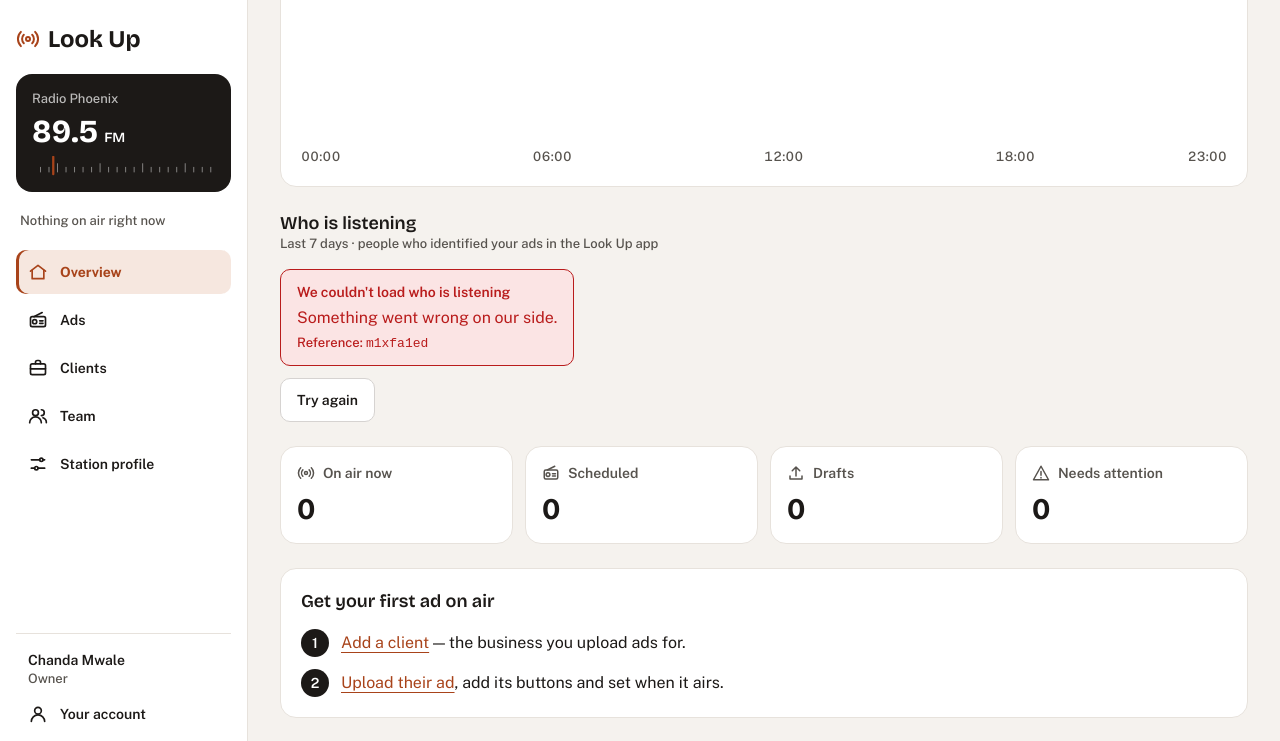
Scenario: Who is listening (LA-STATS-07) › explains a failure in plain words with its reference, and tries again on request
(page scrolled)
Expected: the message shows "We couldn't load who is listening", [297,284,510,300]
Expected: the message shows "Reference: m1xfa1ed", [280,269,574,366]
Click the button "Try again".
click(328, 400)  # box [280,378,375,422]
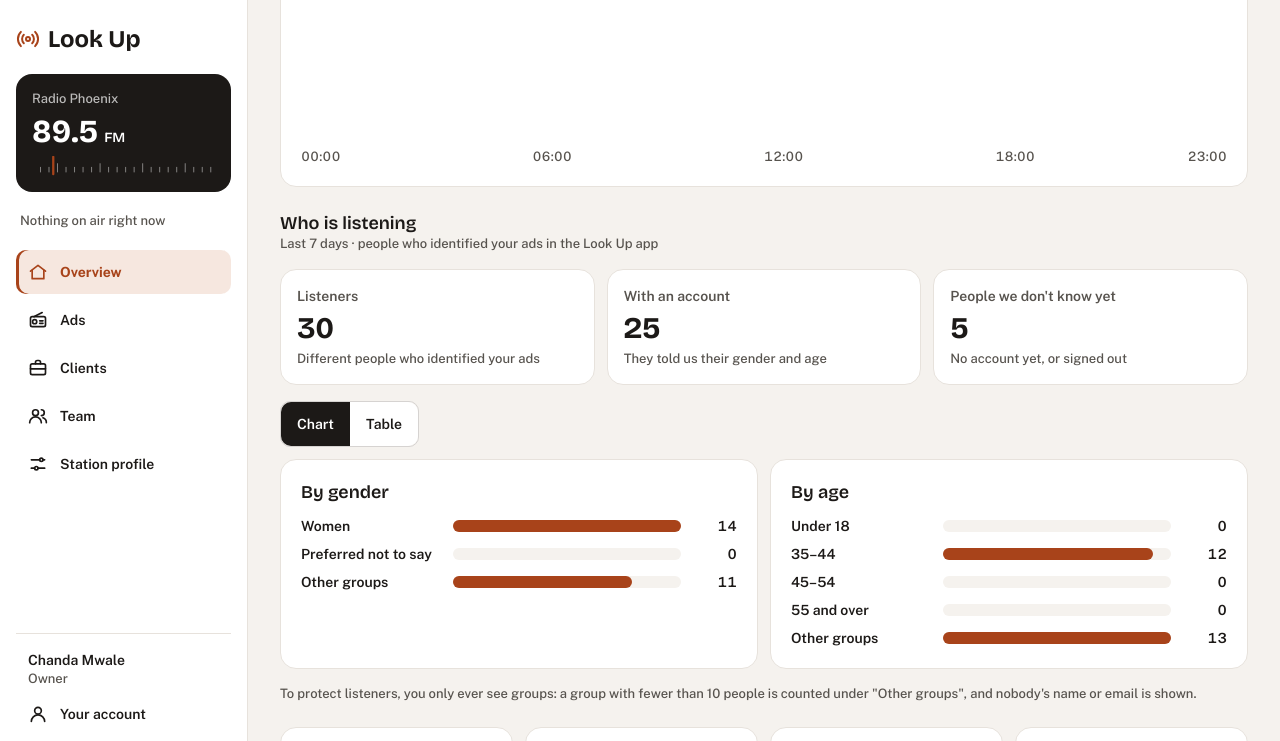
Expected: the list named "By gender" is shown, [301,516,737,592]
